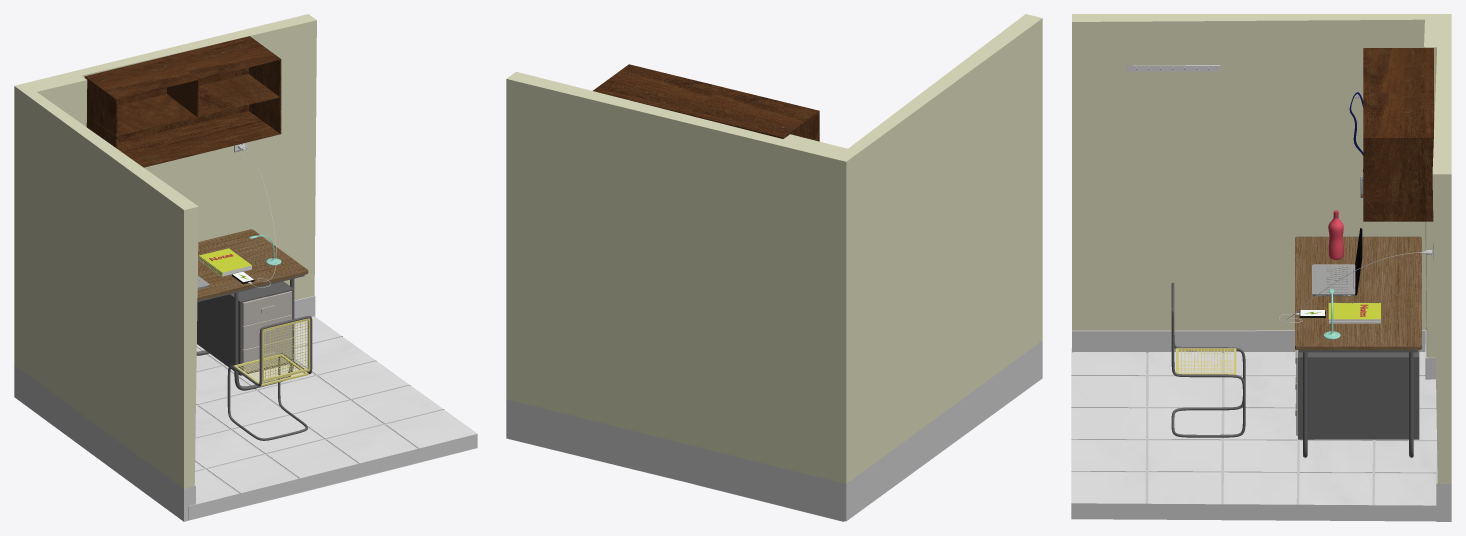
File: isoRoom1.glb
3 renders of one model, left to right at view 1: azimuth 30°, elevation 25°; view 2: azimuth 150°, elevation 25°; view 3: azimuth 270°, elevation 25°, orthographic. The views are drawn at different scales.
Visible parts, largest first — view 1: wall, floor, container, tableTop, cupboardCover, chairNet1, chairMetal, cupboard1, cupboard2, notebook, cupboard3, chairNet2 (+1 smaller); view 2: wall, container; view 3: wall, floor, container, tableTop, cupboardCover, chairMetal, chairNet2, laptopCPU, notebook, tableLeg2, hanger, bottle (+1 smaller).
Part boxes in pixels (x1,y1,x2,y2): wall: (14,14,316,521); floor: (188,316,477,520); container: (84,36,281,167); tableTop: (197,229,308,300); cupboardCover: (197,281,293,375); chairNet1: (262,318,310,382); chairMetal: (227,316,312,440); cupboard1: (242,291,291,326); cupboard2: (242,314,291,349); notebook: (198,248,252,276); cupboard3: (242,338,291,372); chairNet2: (233,354,308,386); wall: (506,14,1042,521); container: (593,64,819,141); wall: (1072,14,1451,521); floor: (1071,348,1442,521); container: (1363,48,1433,221); tableTop: (1295,236,1421,349); cupboardCover: (1298,350,1419,439); chairMetal: (1171,283,1245,437); chairNet2: (1176,348,1236,374); laptopCPU: (1312,264,1355,296); notebook: (1328,302,1380,323); tableLeg2: (1303,352,1413,457); hanger: (1127,65,1220,71); bottle: (1328,218,1343,259).
Size of the model in its own units: 3.64 by 3.69 by 3.65.
28 materials, 6 textured.
